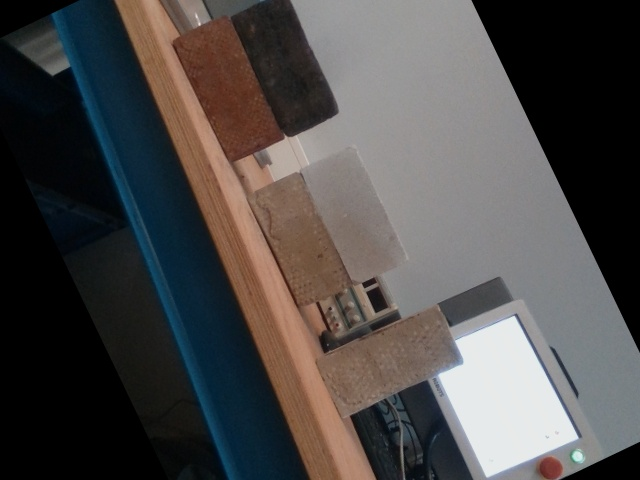brick: (317, 308, 462, 418), (173, 18, 282, 163), (299, 148, 407, 285), (231, 0, 339, 137), (248, 173, 349, 307)
